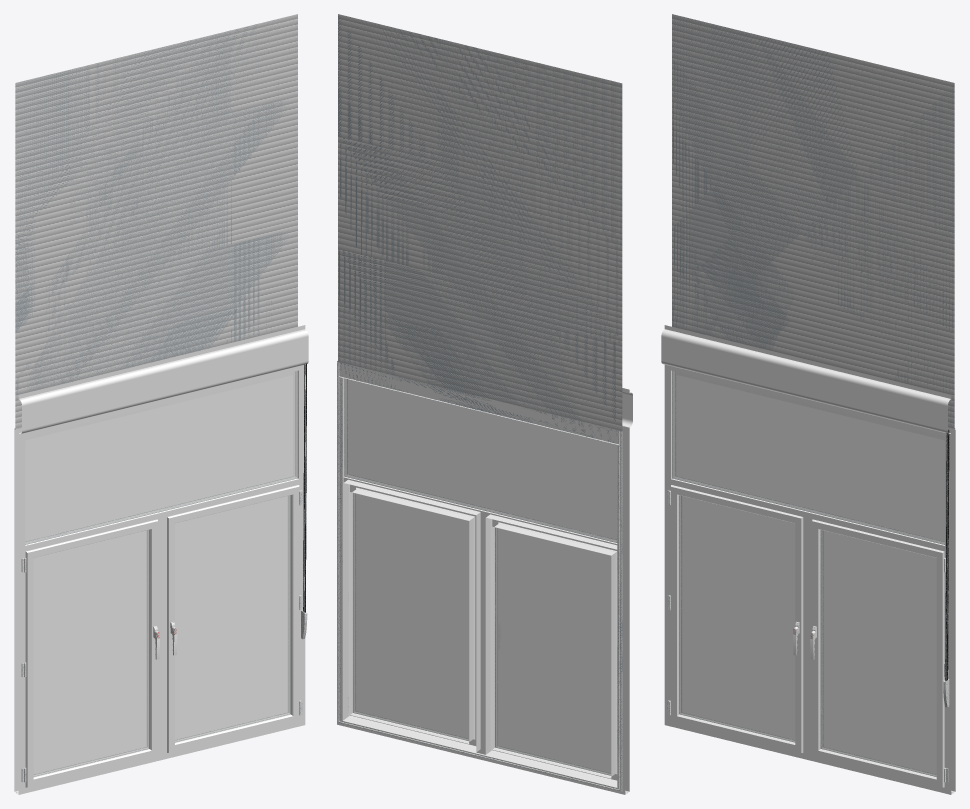
The model's file is Window1_os_150x200x[2 casement_blinds].dae.
The picture shows the model from 3 angles, left to right: view 1: azimuth 30°, elevation 25°; view 2: azimuth 150°, elevation 25°; view 3: azimuth 330°, elevation 25°; orthographic projection.
Parts seen in each view (by area): view 1: group_22, group_10 (×5), group_9 (×2), group_18 (×2), group_27, group_17 (×2), group_8 (×2), group_21; view 2: group_22 (×2), group_10 (×7), group_9 (×2), group_18 (×2), group_21 (×3), group_17 (×4), group_8 (×5); view 3: group_22, group_10 (×5), group_9 (×2), group_18 (×2), group_27, group_17 (×2), group_8 (×2), group_21.
Boxes of the visible parts, <box> form: group_22: <box>15,14,297,428</box>; group_10 (×5): <box>18,365,305,794</box>; group_9 (×2): <box>33,530,149,776</box>; group_18 (×2): <box>175,495,290,742</box>; group_27: <box>18,325,308,433</box>; group_17 (×2): <box>167,485,299,752</box>; group_8 (×2): <box>25,519,157,787</box>; group_21: <box>14,428,21,791</box>; group_22 (×2): <box>338,14,622,444</box>; group_10 (×7): <box>343,378,629,791</box>; group_9 (×2): <box>495,527,611,775</box>; group_18 (×2): <box>353,493,468,740</box>; group_21 (×3): <box>337,361,625,794</box>; group_17 (×4): <box>344,484,480,751</box>; group_8 (×5): <box>486,518,617,786</box>; group_22: <box>672,14,954,428</box>; group_10 (×5): <box>664,364,951,794</box>; group_9 (×2): <box>679,495,795,742</box>; group_18 (×2): <box>820,530,936,776</box>; group_27: <box>661,325,951,433</box>; group_17 (×2): <box>812,519,944,787</box>; group_8 (×2): <box>671,485,803,752</box>; group_21: <box>948,428,955,791</box>.
Bounding box in the file's own units: 59.06 × 4.16 × 139.
12 materials, 1 textured.
